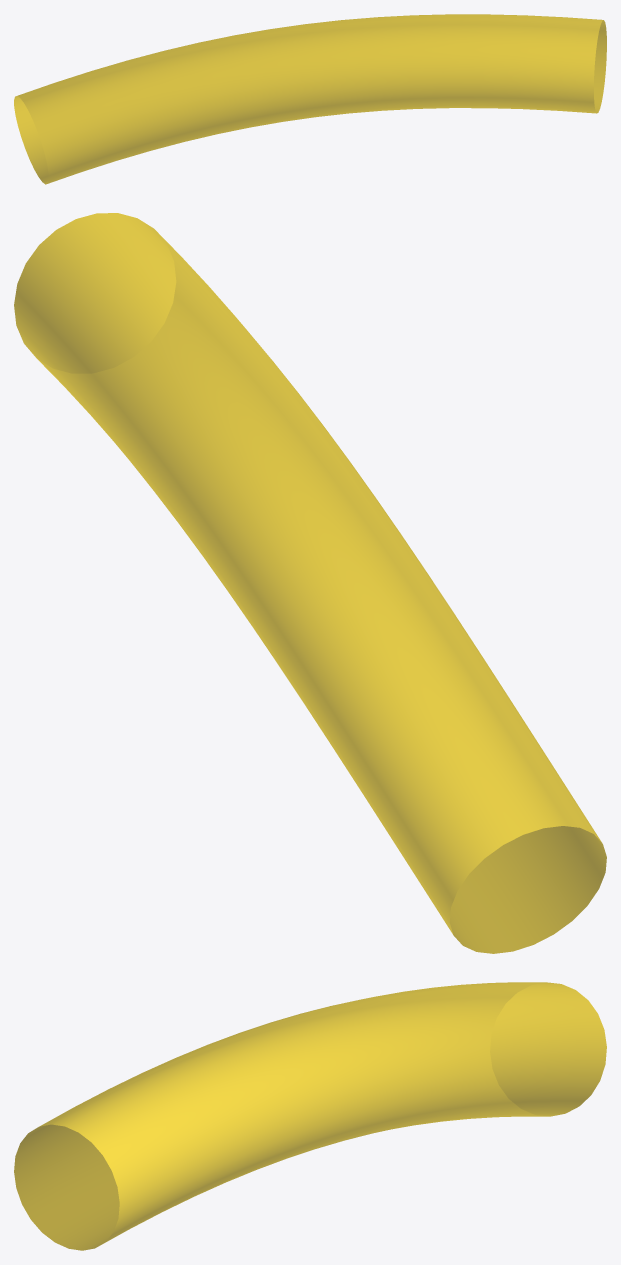
The model's file is Event_100608114_track_94.fbx.
3 renders of one model, top to bottom at view 1: azimuth 30°, elevation 25°; view 2: azimuth 150°, elevation 25°; view 3: azimuth 270°, elevation 25°, orthographic. The views are drawn at different scales.
Parts seen in each view (by area): view 1: Model; view 2: Model; view 3: Model.
Boxes of the visible parts, x1,y1,x2,y2 form: Model: (14, 14, 606, 184); Model: (14, 213, 606, 953); Model: (14, 982, 606, 1250).
Size of the model in its own units: 0.2216 by 0.0852 by 0.1765.
